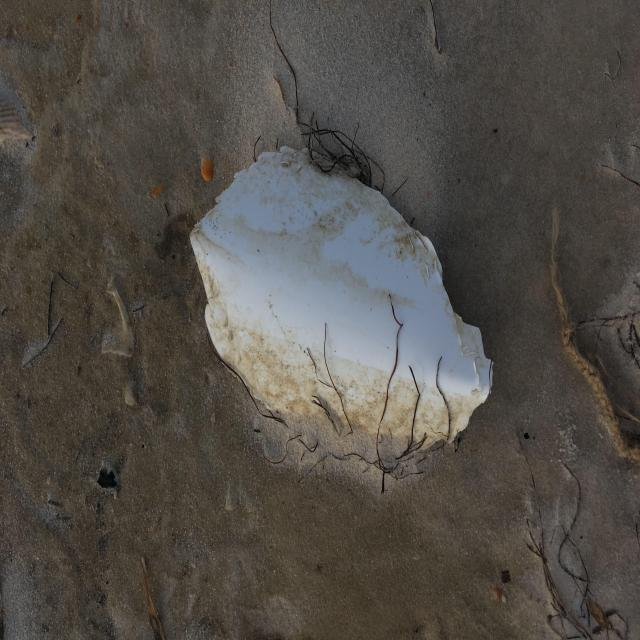litter: (187, 141, 493, 452)
